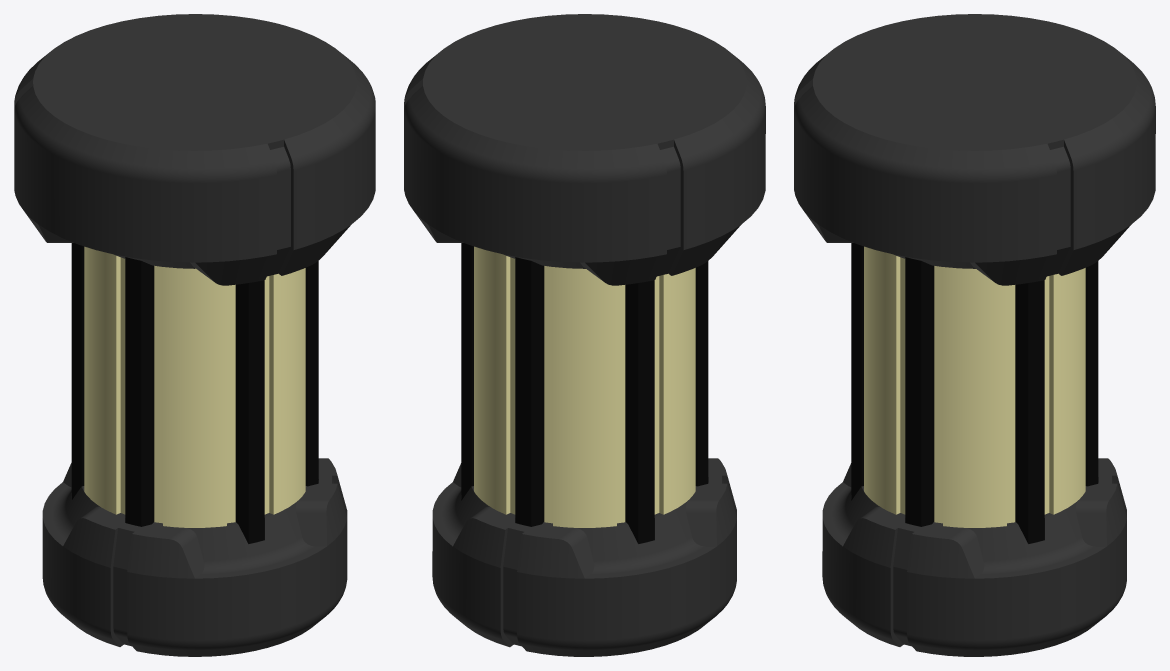
File: energy.obj
3 renders of one model, left to right at view 1: azimuth 30°, elevation 25°; view 2: azimuth 150°, elevation 25°; view 3: azimuth 270°, elevation 25°, orthographic.
Parts seen in each view (by area): view 1: mesh1, mesh3, mesh2; view 2: mesh1, mesh3, mesh2; view 3: mesh1, mesh3, mesh2.
Part boxes in pixels (box(x1,y1,x2,y2)): mesh1: box(14, 14, 375, 656); mesh3: box(84, 246, 305, 527); mesh2: box(71, 243, 318, 543); mesh1: box(404, 14, 765, 656); mesh3: box(474, 246, 695, 527); mesh2: box(461, 243, 708, 543); mesh1: box(794, 14, 1155, 656); mesh3: box(864, 246, 1085, 527); mesh2: box(851, 243, 1098, 543).
Bounding box in the file's own units: 0.095 × 0.15 × 0.0949.
